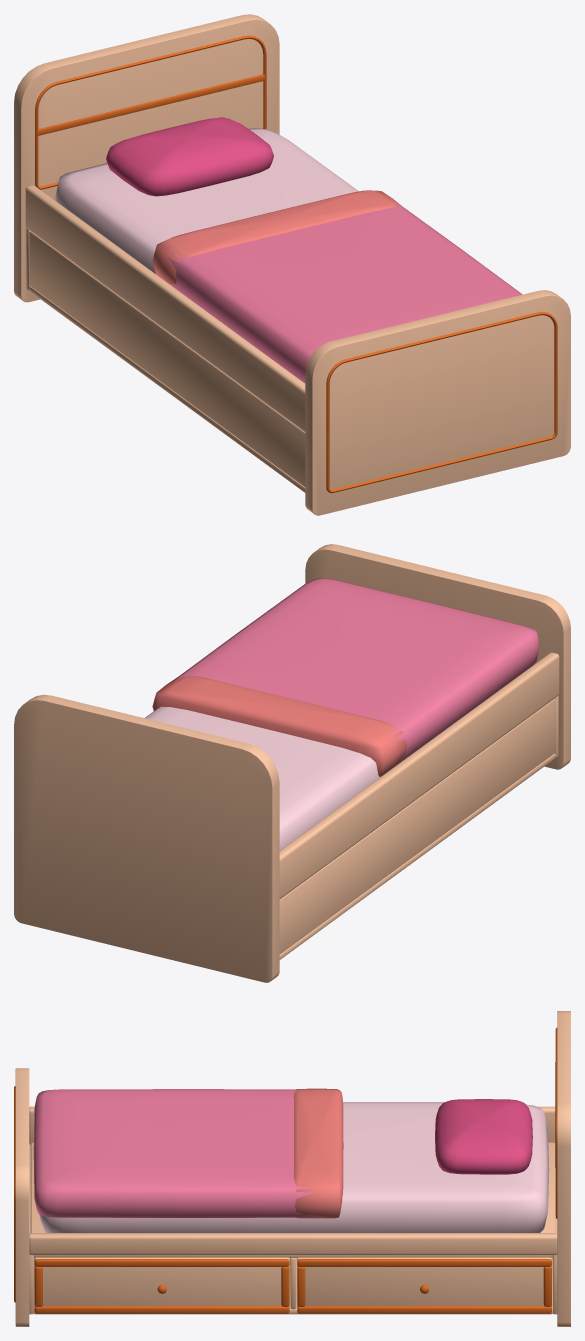
File: cama_infantil_gavetas_coral.glb
The picture shows the model from 3 angles, top to bottom: view 1: azimuth 30°, elevation 25°; view 2: azimuth 150°, elevation 25°; view 3: azimuth 270°, elevation 25°; orthographic projection. The views are drawn at different scales.
Visible parts, largest first — view 1: cama_infantil_gavetas_coral; view 2: cama_infantil_gavetas_coral; view 3: cama_infantil_gavetas_coral, gaveta_1, gaveta_2.
Boxes of the visible parts, x1,y1,x2,y2 form: cama_infantil_gavetas_coral: (14,14,570,515); cama_infantil_gavetas_coral: (14,544,570,982); cama_infantil_gavetas_coral: (14,1011,570,1326); gaveta_1: (34,1257,289,1313); gaveta_2: (297,1257,551,1313).
Bounding box in the file's own units: 1.06 × 0.86 × 2.05.
1 material, 1 textured.
